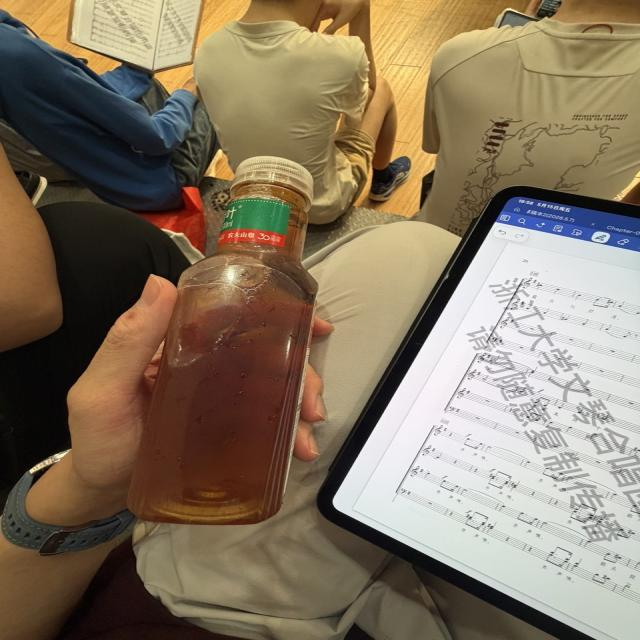high: (129, 156, 317, 524)
